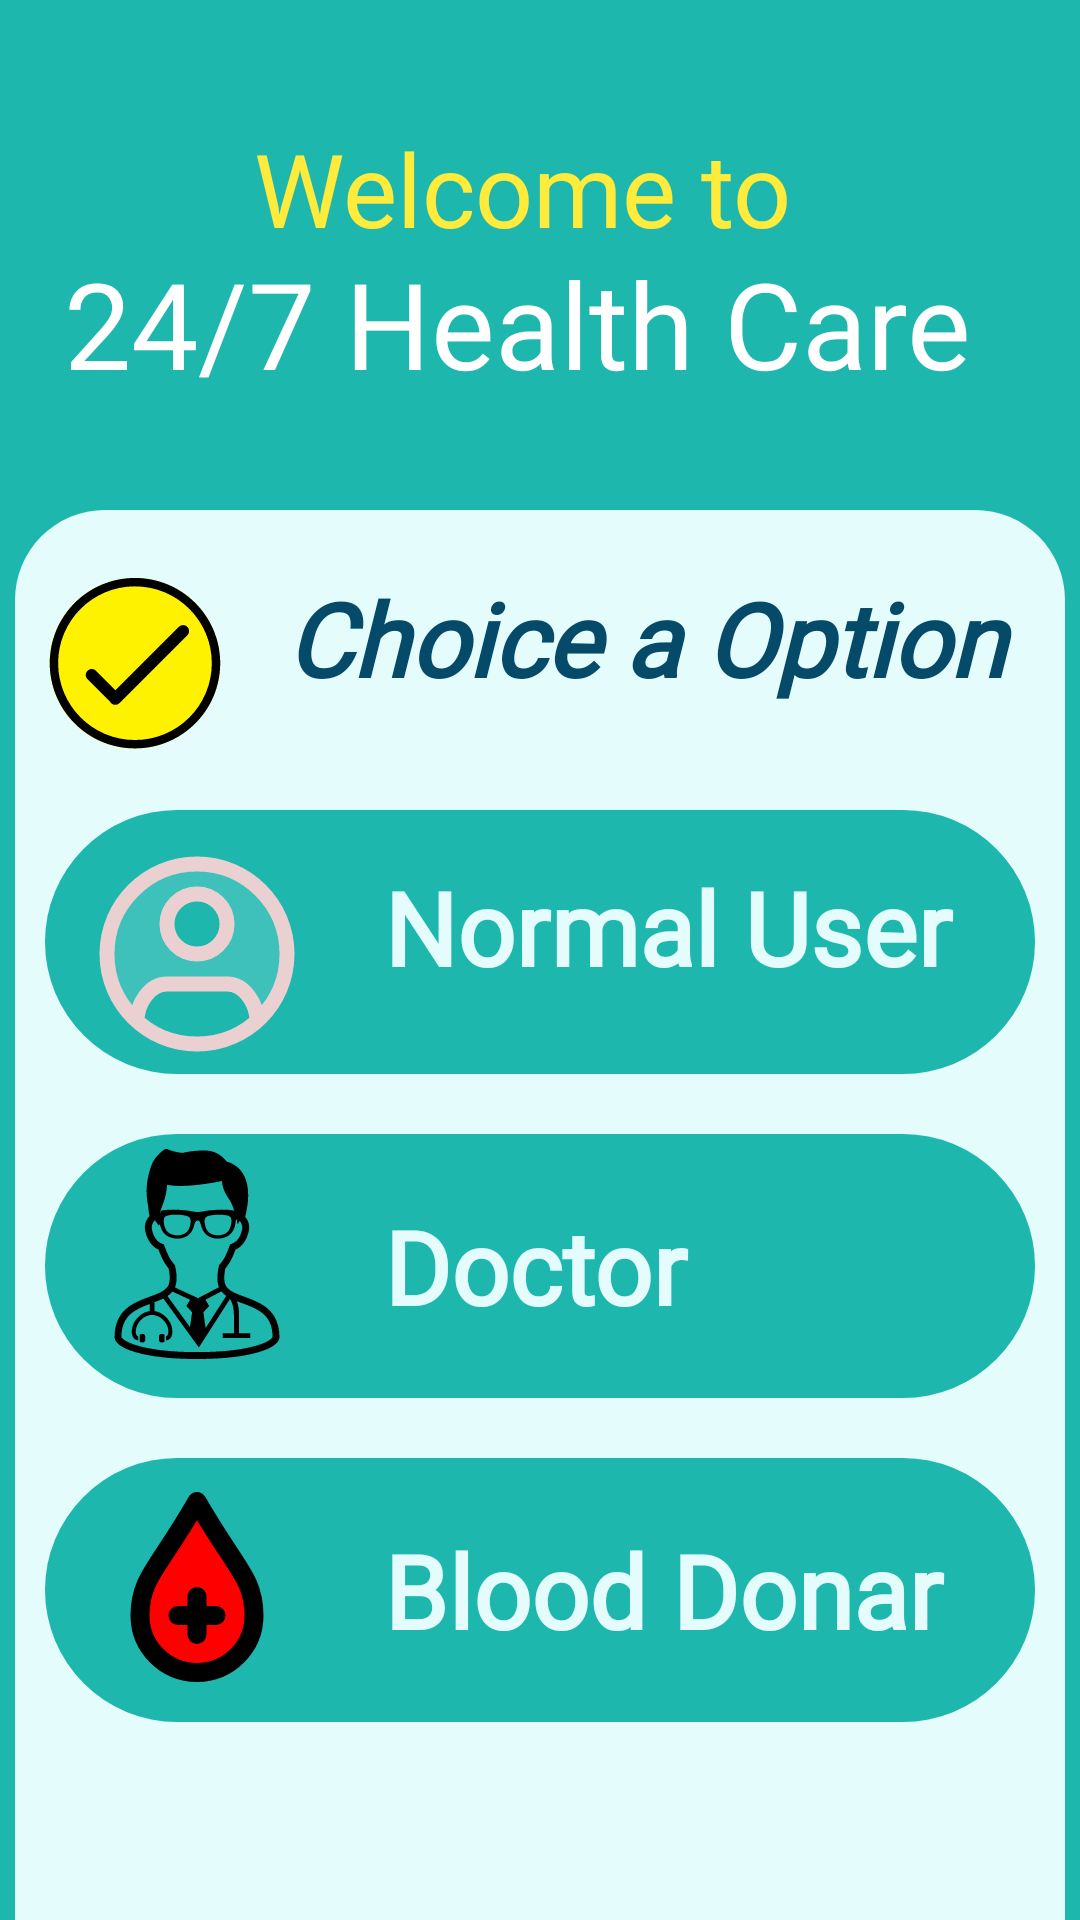

Where to tap for icons on this 1080 × 1920 app screen, as (x=x, y=y):
blood plus: (x=197, y=1587)
